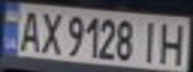1: (81, 14, 100, 58)
2: (97, 15, 118, 61)
8: (115, 16, 139, 62)
9: (60, 11, 84, 57)
A: (15, 7, 45, 53)
H: (157, 19, 190, 65)
I: (136, 18, 163, 63)
X: (36, 8, 63, 55)
